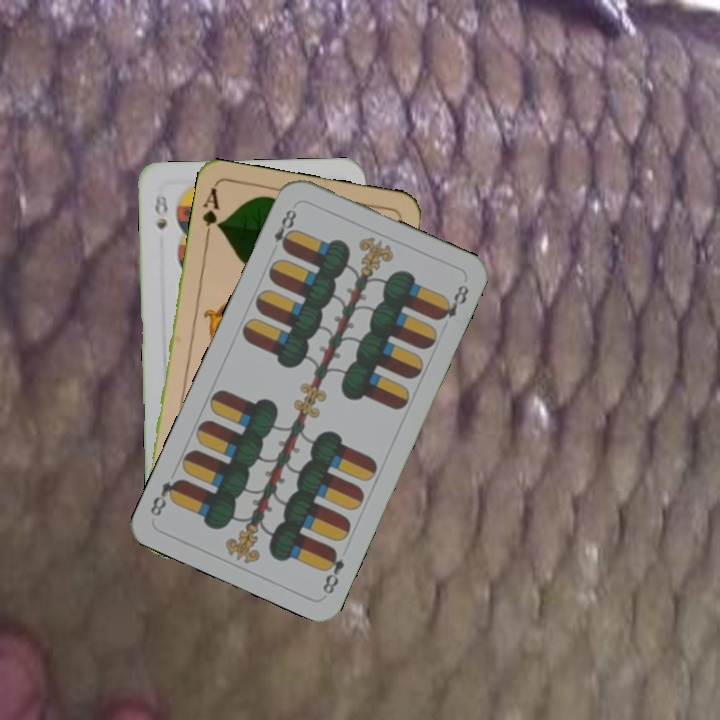E8: (318, 544, 347, 597), (269, 205, 299, 254)
GA: (198, 184, 224, 243)
S8: (151, 189, 171, 233)
